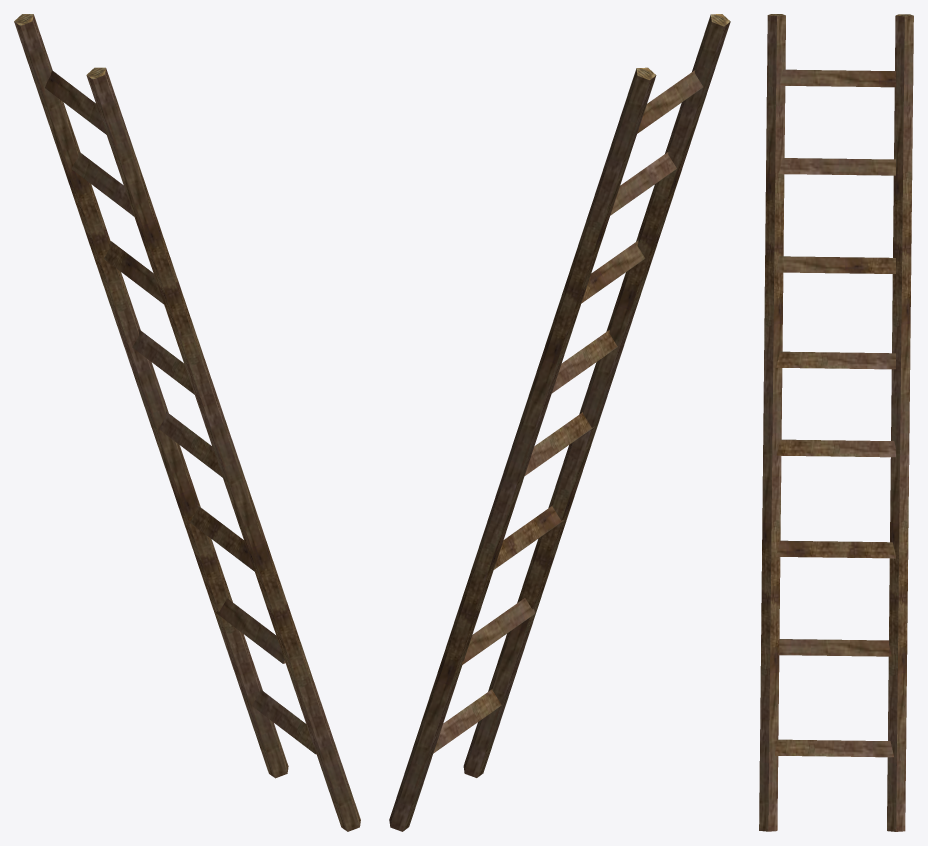
File: tizi_tyc_20.FBX
The picture shows the model from 3 angles, left to right: view 1: azimuth 30°, elevation 25°; view 2: azimuth 150°, elevation 25°; view 3: azimuth 270°, elevation 25°; orthographic projection. The views are drawn at different scales.
Parts seen in each view (by area): view 1: tizi_tyc_01; view 2: tizi_tyc_01; view 3: tizi_tyc_01.
Boxes of the visible parts, <box> form: tizi_tyc_01: <box>14,14,360,831</box>; tizi_tyc_01: <box>389,14,730,831</box>; tizi_tyc_01: <box>759,14,913,831</box>.
Bounding box in the file's own units: 148 × 433 × 85.16.
